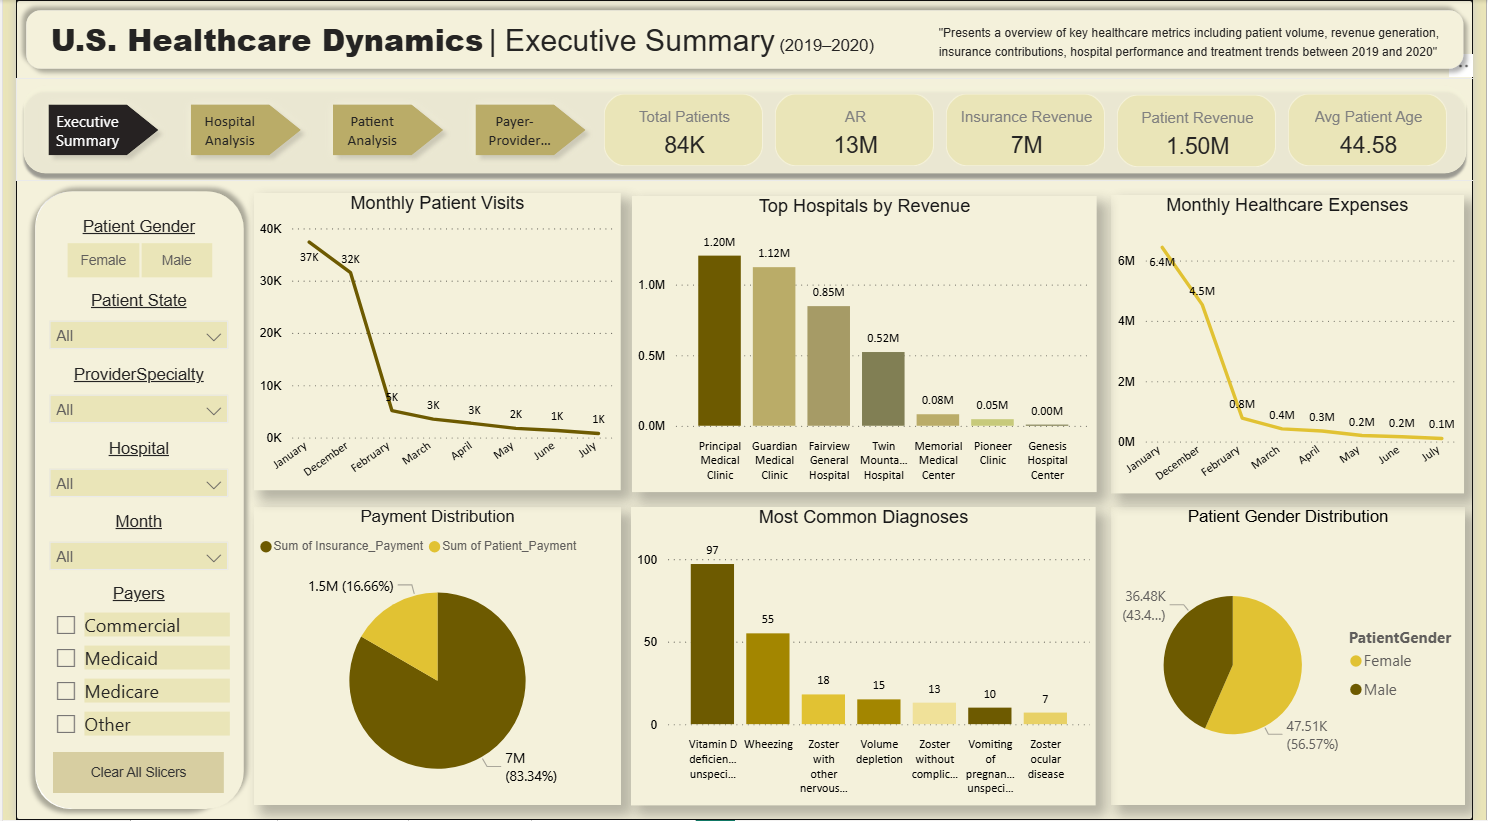

The dashboard page shown, as its layout file describes it:
{"tool":"powerbi","page":{"name":"Executive Summary","canvas":[1280,720],"ordinal":0},"visuals":[{"type":"shape","box":[0,0,1280,69.4],"z":0},{"type":"shape","box":[8,159.2,188.6,560.4],"z":1000},{"type":"shape","box":[8,159.2,201,560.4],"z":2000},{"type":"shape","box":[0,68.5,1280.2,90.4],"z":3000},{"type":"shape","box":[0,0,1280,69.3],"z":4000},{"type":"textbox","box":[25.8,10.7,773.3,47.1],"z":5000},{"type":"textbox","box":[805.3,13.3,456.9,44.4],"z":6000},{"type":"lineChart","title":"Monthly Healthcare Expenses","fields":{"Category":["Healthcare_dataset.Month Name"],"Y":["Sum(Healthcare_dataset.Expenses)"]},"box":[961.6,170.8,309.5,262.4],"z":7000},{"type":"lineChart","title":"Monthly Patient Visits","fields":{"Category":["Healthcare_dataset.Month Name"],"Y":["CountNonNull(Healthcare_dataset.PatientID)"]},"box":[209,169.9,322,260.6],"z":8000},{"type":"pieChart","title":"Payment Distribution","fields":{"Y":["Sum(Healthcare_dataset.Insurance_Payment)","Sum(Healthcare_dataset.Patient_Payment)"]},"box":[209,445.2,322.2,261.7],"z":9000},{"type":"slicer","title":"Patient Gender","fields":{"Values":["Healthcare_dataset.PatientGender"]},"box":[19.6,190.4,177,59.6],"z":10000},{"type":"slicer","title":"Patient State","fields":{"Values":["Healthcare_dataset.patientState"]},"box":[19.6,255.3,177,60.5],"z":11000},{"type":"slicer","title":"ProviderSpecialty","fields":{"Values":["Healthcare_dataset.ProviderSpecialty"]},"box":[19.6,320.2,177,59.6],"z":12000},{"type":"slicer","title":"Hospital","fields":{"Values":["Healthcare_dataset.Hospital name "]},"box":[19.6,385.2,177,59.6],"z":13000},{"type":"slicer","title":"Month","fields":{"Values":["Healthcare_dataset.Month Name"]},"box":[19.6,449.2,177,59.6],"z":14000},{"type":"pieChart","title":"Patient Gender Distribution","fields":{"Category":["Healthcare_dataset.PatientGender"],"Y":["CountNonNull(Healthcare_dataset.PatientID)"]},"box":[961.5,445.2,310.8,261.7],"z":15000},{"type":"clusteredColumnChart","title":"Top Hospitals by Revenue","fields":{"Category":["Healthcare_dataset.Hospital name "],"Y":["Sum(Healthcare_dataset.Expenses)"]},"box":[540.8,171.7,408.3,259.7],"z":16000},{"type":"clusteredColumnChart","title":"Most Common Diagnoses","fields":{"Category":["Healthcare_dataset.DiagnosisCodeDescription"],"Y":["CountNonNull(Healthcare_dataset.PatientID)"]},"box":[540,445.2,408.3,261.7],"z":17000},{"type":"pageNavigator","box":[19.6,82.7,491.9,63.2],"z":18000},{"type":"cardVisual","title":"Total Patients","fields":{"Data":["Healthcare_dataset.Total Patients"]},"box":[511,79,150.1,70.2],"z":19000},{"type":"cardVisual","fields":{"Data":["Healthcare_dataset.Total Revenue"]},"box":[661.2,79,150.1,70.2],"z":20000},{"type":"cardVisual","fields":{"Data":["Healthcare_dataset.Insurance Revenue"]},"box":[811.3,79,150.1,70.2],"z":21000},{"type":"cardVisual","fields":{"Data":["Healthcare_dataset.Patient Revenue"]},"box":[961.5,79.9,150.1,70.2],"z":22000},{"type":"cardVisual","fields":{"Data":["Healthcare_dataset.Avg Patient Age"]},"box":[1111.6,79,150.1,70.2],"z":23000},{"type":"actionButton","box":[32.9,660,150.3,36.5],"z":24000},{"type":"slicer","title":"Payers","fields":{"Values":["Healthcare_dataset.PayerName"]},"box":[23.1,512.4,169.9,141.4],"z":25000}]}

Visuals, with their boxes in screenshot pixels (x1, y1, x2, y2), scaled from the page's 1280x720 canvas onto the 1488x821 screenshot:
shape: <region>0, 0, 1487, 79</region>
shape: <region>9, 182, 229, 820</region>
shape: <region>9, 182, 243, 820</region>
shape: <region>0, 78, 1487, 181</region>
shape: <region>0, 0, 1487, 79</region>
textbox: <region>30, 12, 929, 66</region>
textbox: <region>936, 15, 1467, 66</region>
"Monthly Healthcare Expenses" lineChart: <region>1118, 195, 1478, 494</region>
"Monthly Patient Visits" lineChart: <region>243, 194, 617, 491</region>
"Payment Distribution" pieChart: <region>243, 508, 618, 806</region>
"Patient Gender" slicer: <region>23, 217, 229, 285</region>
"Patient State" slicer: <region>23, 291, 229, 360</region>
"ProviderSpecialty" slicer: <region>23, 365, 229, 433</region>
"Hospital" slicer: <region>23, 439, 229, 507</region>
"Month" slicer: <region>23, 512, 229, 580</region>
"Patient Gender Distribution" pieChart: <region>1118, 508, 1479, 806</region>
"Top Hospitals by Revenue" clusteredColumnChart: <region>629, 196, 1103, 492</region>
"Most Common Diagnoses" clusteredColumnChart: <region>628, 508, 1102, 806</region>
pageNavigator: <region>23, 94, 595, 166</region>
"Total Patients" cardVisual: <region>594, 90, 769, 170</region>
cardVisual - Healthcare_dataset.Total Revenue: <region>769, 90, 943, 170</region>
cardVisual - Healthcare_dataset.Insurance Revenue: <region>943, 90, 1118, 170</region>
cardVisual - Healthcare_dataset.Patient Revenue: <region>1118, 91, 1292, 171</region>
cardVisual - Healthcare_dataset.Avg Patient Age: <region>1292, 90, 1467, 170</region>
actionButton: <region>38, 753, 213, 794</region>
"Payers" slicer: <region>27, 584, 224, 746</region>
